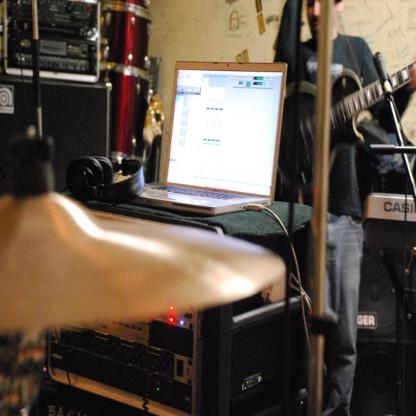board: (148, 60, 292, 216)
